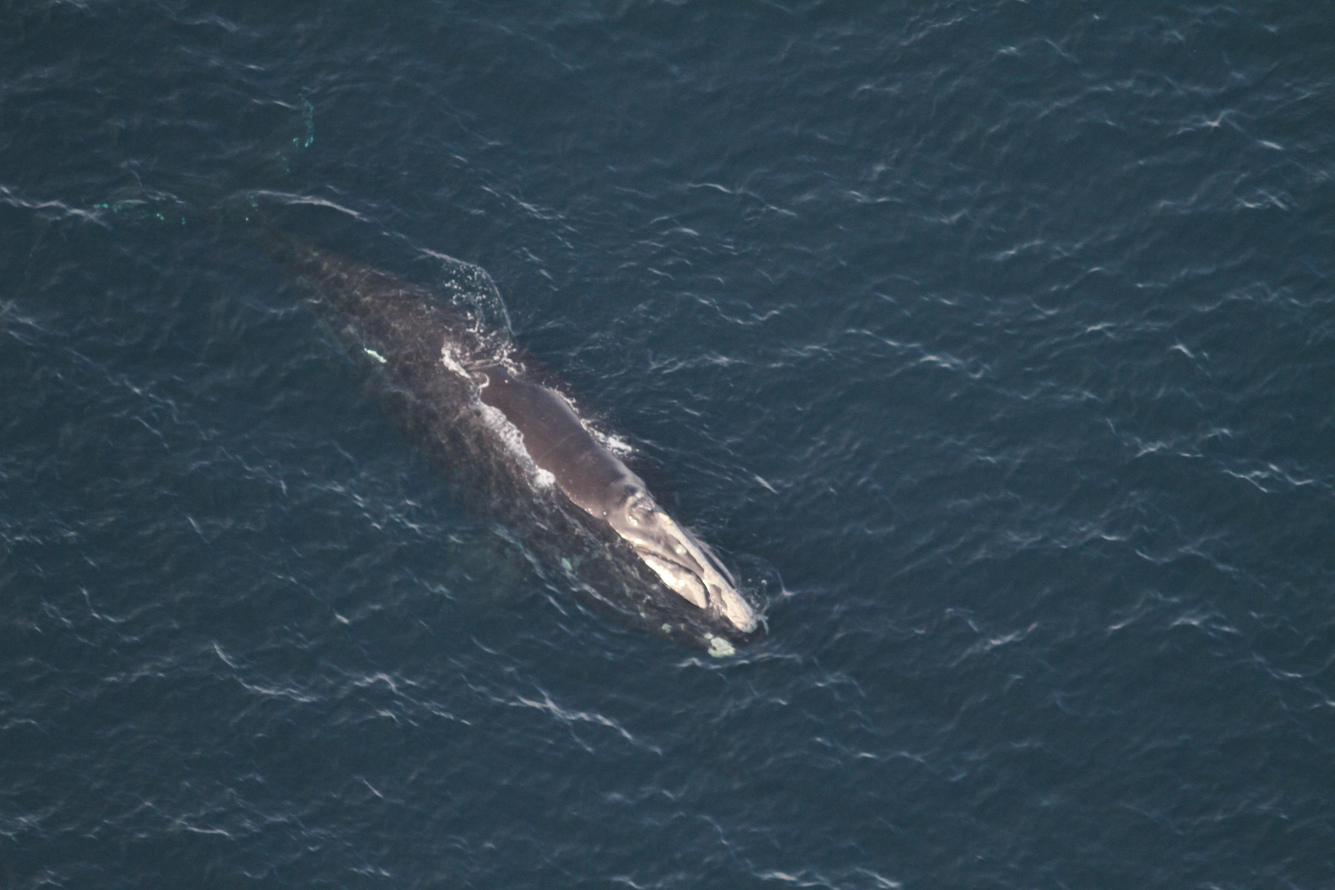whale: (67, 85, 776, 667)
